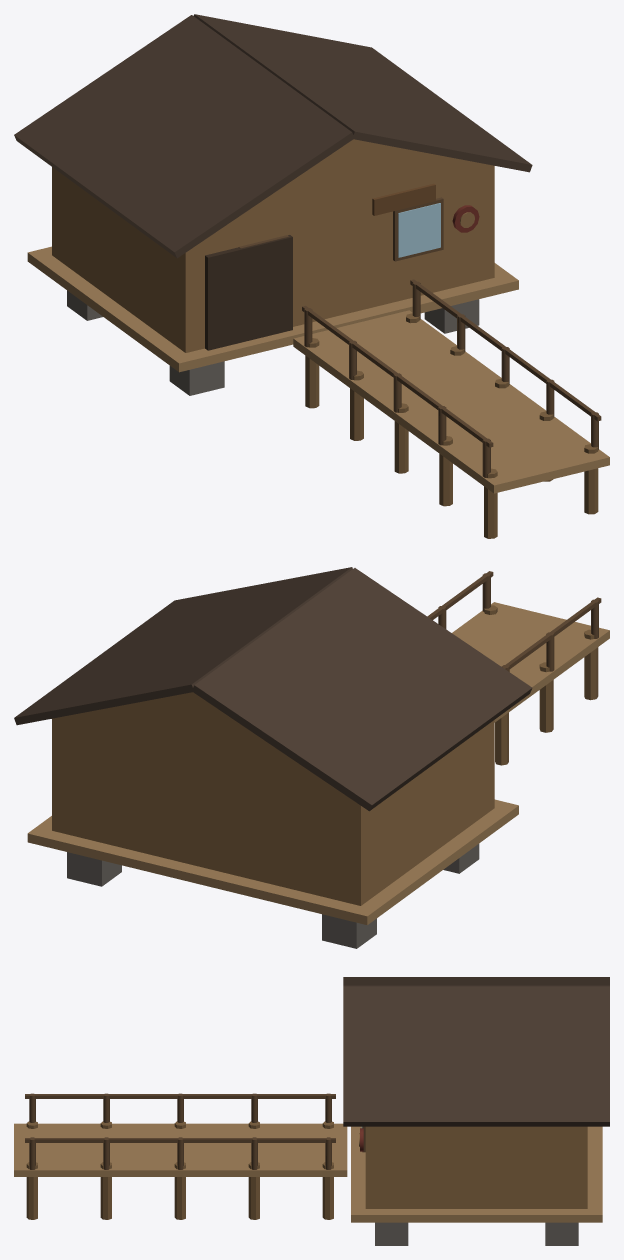
Rendered from jenny_lake_station.glb.
3 views of the same model, one above another, from view 1: azimuth 30°, elevation 25°; view 2: azimuth 150°, elevation 25°; view 3: azimuth 270°, elevation 25° (orthographic). The views are drawn at different scales.
Parts seen in each view (by area): view 1: roof, jenny_lake_station, dock, door, glass_pane; view 2: roof, jenny_lake_station, dock; view 3: roof, jenny_lake_station, dock.
Part boxes in pixels (left/top/right/bottom): roof: left=14, top=14, right=532, bottom=258; jenny_lake_station: left=27, top=166, right=518, bottom=395; dock: left=293, top=279, right=609, bottom=538; door: left=205, top=235, right=292, bottom=350; glass_pane: left=398, top=203, right=440, bottom=257; roof: left=14, top=567, right=532, bottom=811; jenny_lake_station: left=27, top=719, right=518, bottom=948; dock: left=427, top=571, right=609, bottom=765; roof: left=343, top=977, right=609, bottom=1126; jenny_lake_station: left=351, top=1126, right=602, bottom=1245; dock: left=14, top=1093, right=347, bottom=1219.
Bounding box in the file's own units: 9.27 × 6.3 × 16.1.
